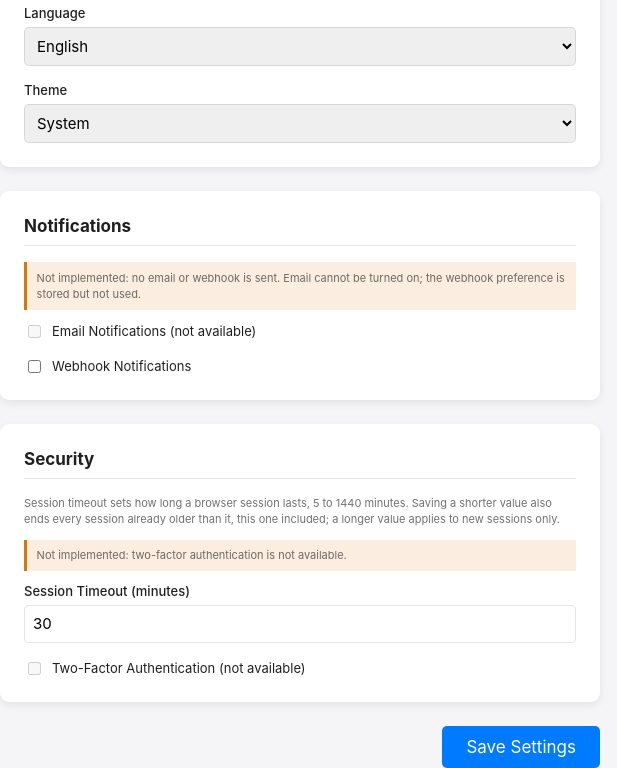
Scenario: SettingsView security settings › saves the session timeout with the unimplemented switches off
The width and height of the screenshot is (617, 768).
(page scrolled)
Replace the text in the number field named "session timeout" with "45". click: (300, 624)
box: 24,605 -> 576,643
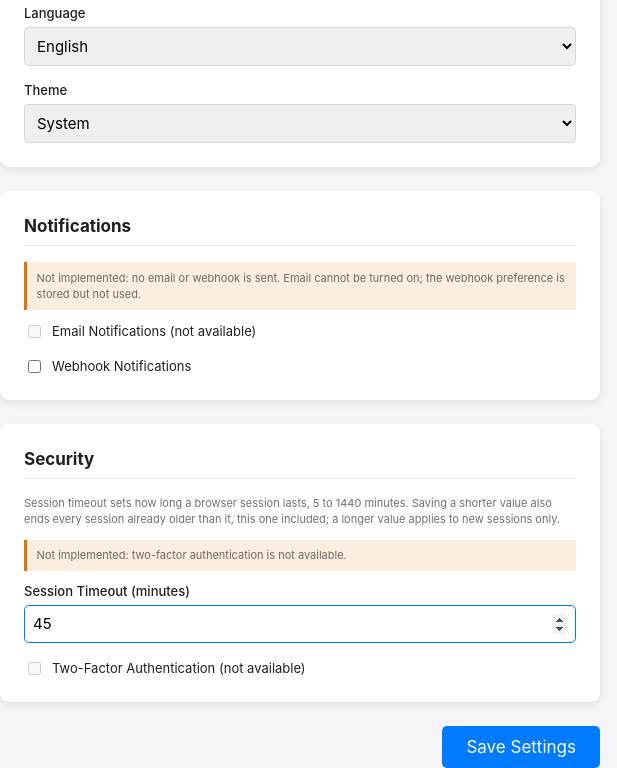
Click the button named "save settings". click: (521, 747)
box: 442,726 -> 600,767
(page scrolled)
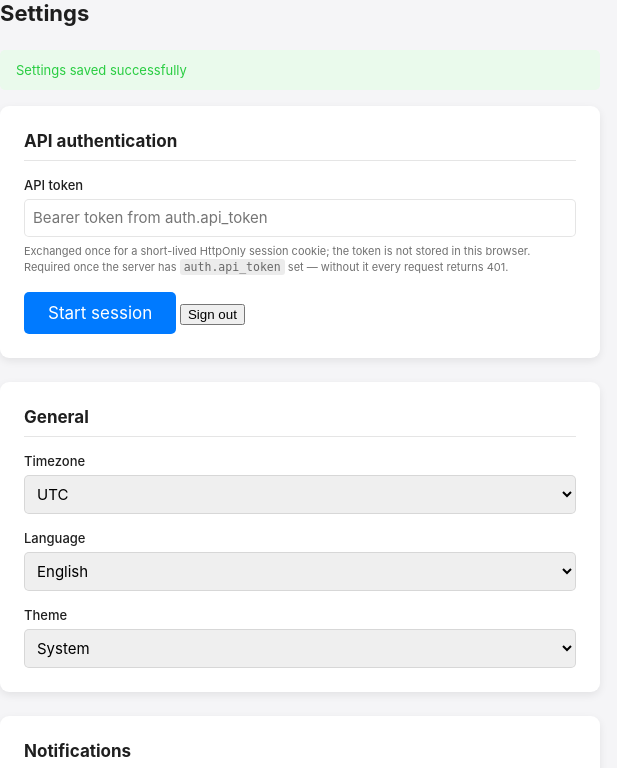
Result: the text "settings saved successfully" is shown at 16,62 -> 187,78
